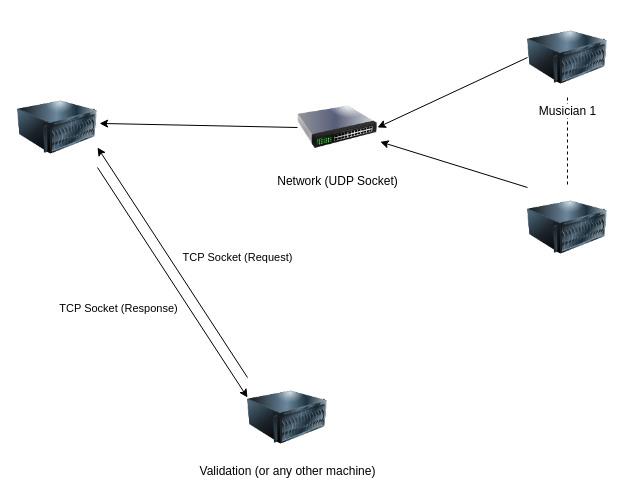
Image size: 624x495. Some labels were removed from this diagram. The shapes that lost their labels are listed below. From the top down, each one's centre as x and y in pixels, then its label:
At (57,127): "Auditor".
At (567,227): "Musician n".
